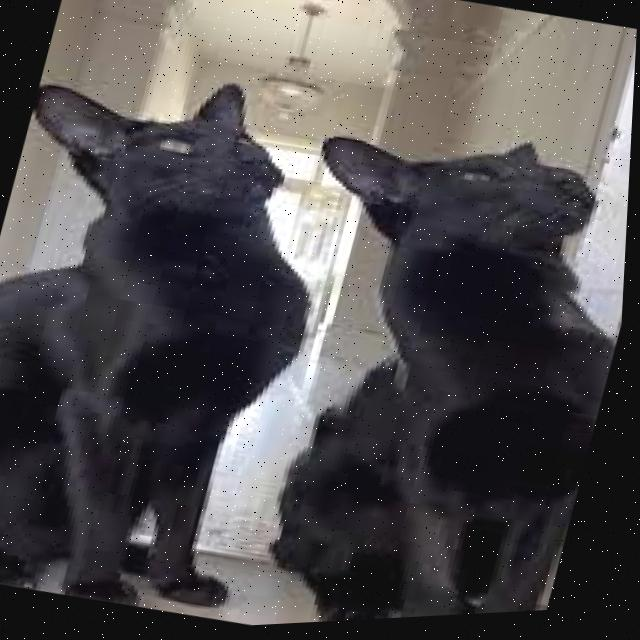Oriental: (200, 96, 635, 631), (0, 34, 376, 635)
